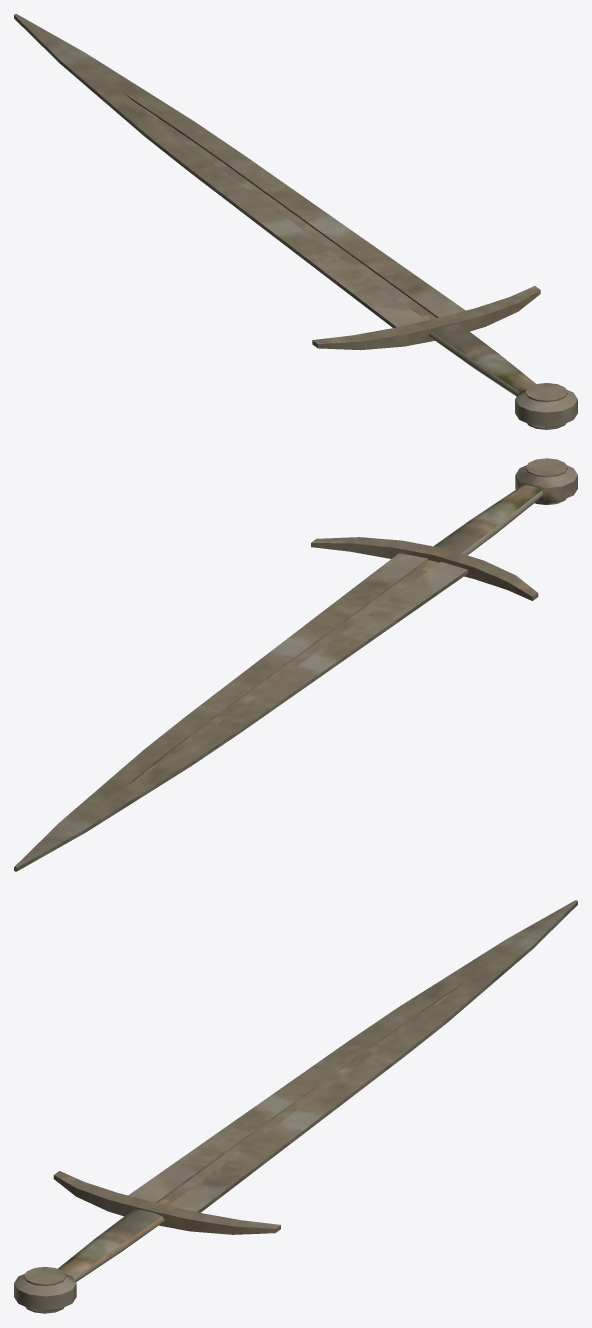
The model's file is shortsword.fbx.
3 views of the same model, one above another, from view 1: azimuth 30°, elevation 25°; view 2: azimuth 150°, elevation 25°; view 3: azimuth 330°, elevation 25° (orthographic).
Visible parts, largest first — view 1: Cube.374; view 2: Cube.374; view 3: Cube.374.
Boxes of the visible parts, left/top/right/bottom form: Cube.374: left=14, top=14, right=577, bottom=429; Cube.374: left=14, top=458, right=577, bottom=871; Cube.374: left=14, top=900, right=577, bottom=1313.
Size of the model in its own units: 19.92 by 2.5 by 84.89.
